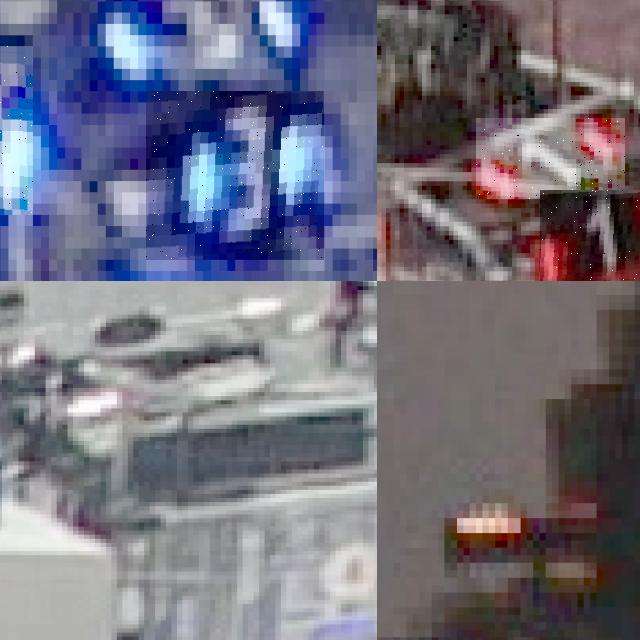B3: (146, 91, 324, 260), (0, 46, 32, 214)
R1: (476, 118, 625, 199), (539, 190, 640, 281)
